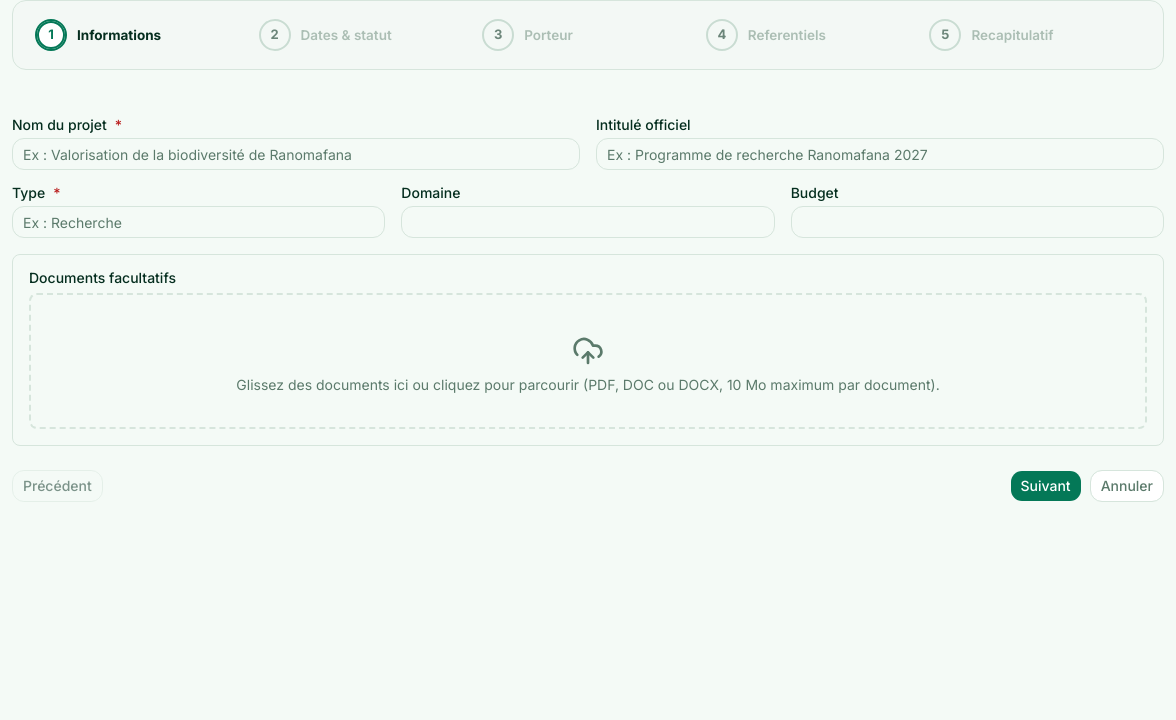
it: assistant de création de projet › affiche les erreurs requises après une tentative de passage à l’étape suivante
Click the button "Suivant" at (1046, 486), box [1010,470,1082,502]
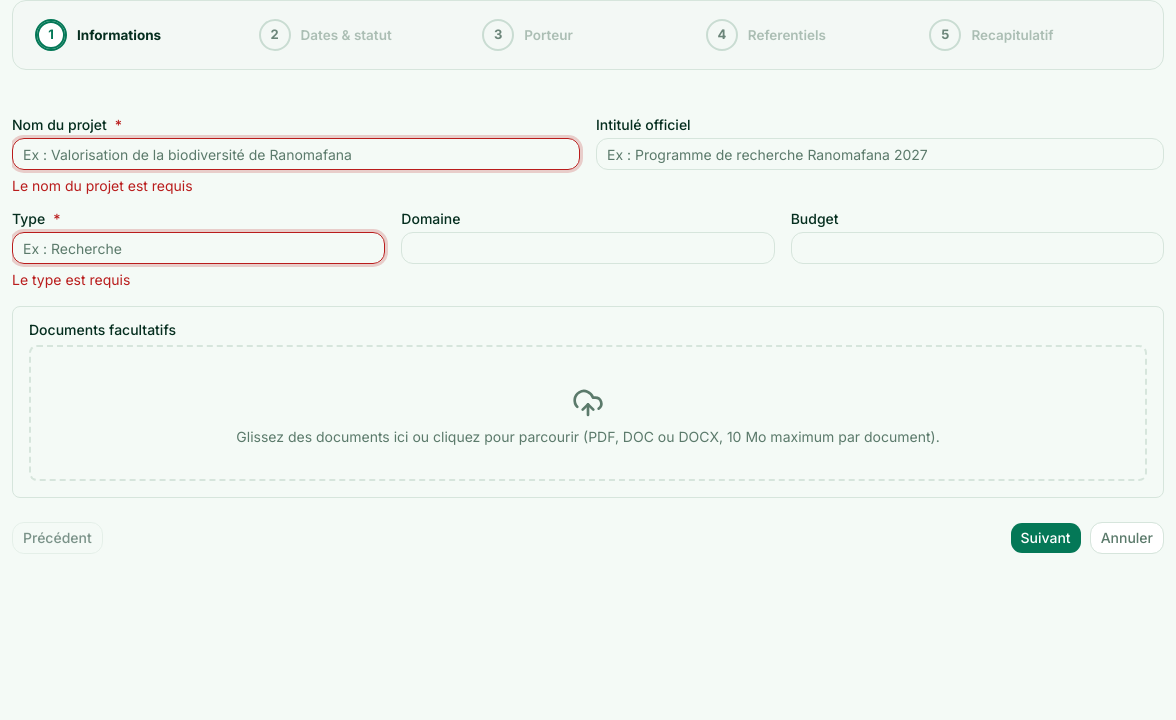
Expected: the text "Le nom du projet est requis" is shown, [12,177,193,194]
Expected: the text "Le type est requis" is shown, [12,271,130,288]
